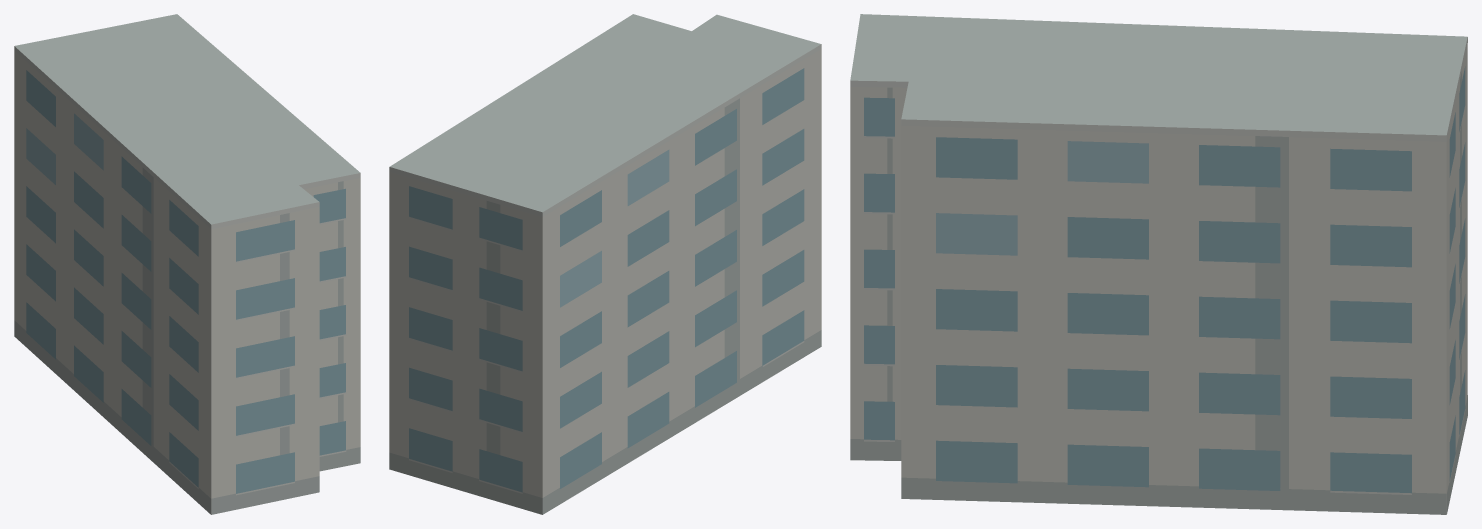
Rendered from survey-upis-32812801.glb.
The picture shows the model from 3 angles, left to right: view 1: azimuth 30°, elevation 25°; view 2: azimuth 150°, elevation 25°; view 3: azimuth 270°, elevation 25°; orthographic projection. The views are drawn at different scales.
Visible parts, largest first — view 1: survey-upis-32812801.tmp; view 2: survey-upis-32812801.tmp; view 3: survey-upis-32812801.tmp.
Boxes of the visible parts, x1,y1,x2,y2 form: survey-upis-32812801.tmp: (14, 14, 360, 514); survey-upis-32812801.tmp: (389, 14, 821, 514); survey-upis-32812801.tmp: (850, 14, 1467, 514).
Size of the model in its own units: 10.16 by 14.8 by 21.84.
